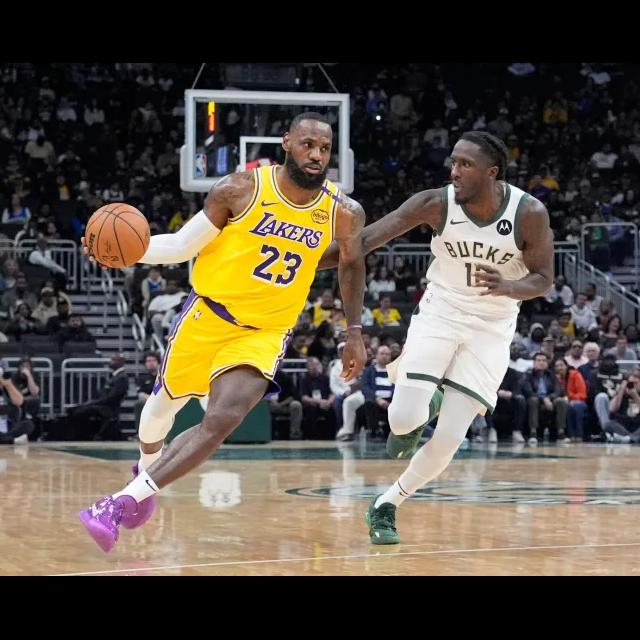basketball: (82, 200, 150, 266)
